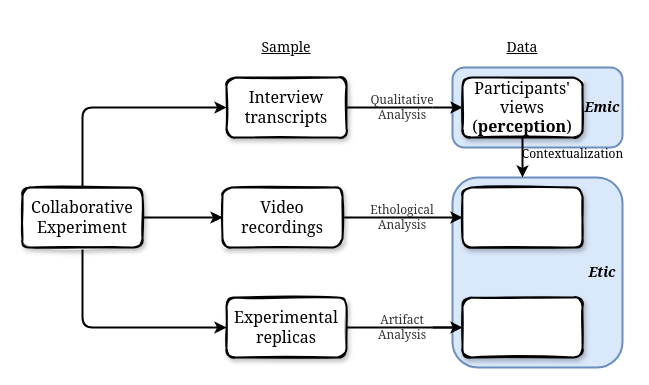
Image size: 649x385. Some labels were removed from this diagram. Each missing label, with the centre of its shape:
"Action sequences ( process )" belongs at (523,218).
"Artifact attributes ( product )" belongs at (523,328).
